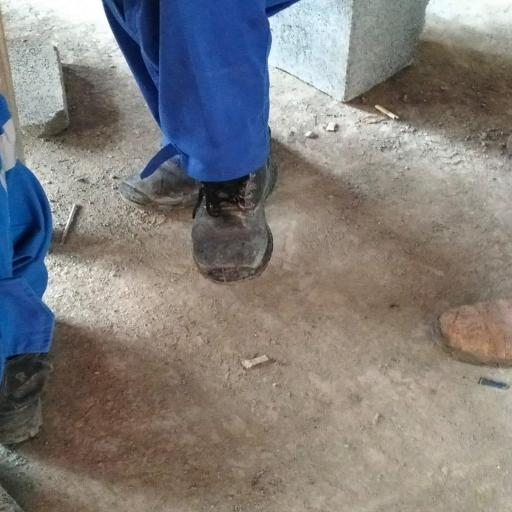safety_shoe: (188, 165, 284, 279)
